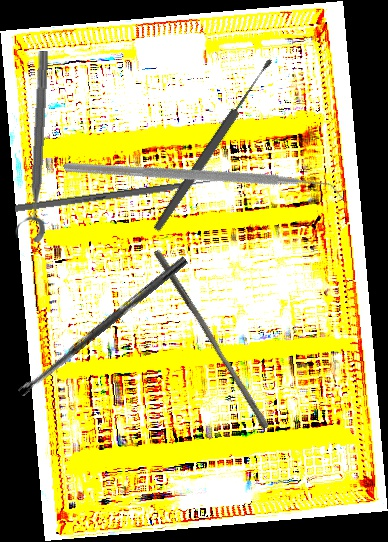Chopper: (62, 56, 346, 312)
Fixation Ring: (12, 49, 55, 243)
Pusher: (146, 249, 276, 430), (14, 175, 228, 213)
Surgical Spoon: (16, 255, 189, 397), (150, 55, 277, 235)
